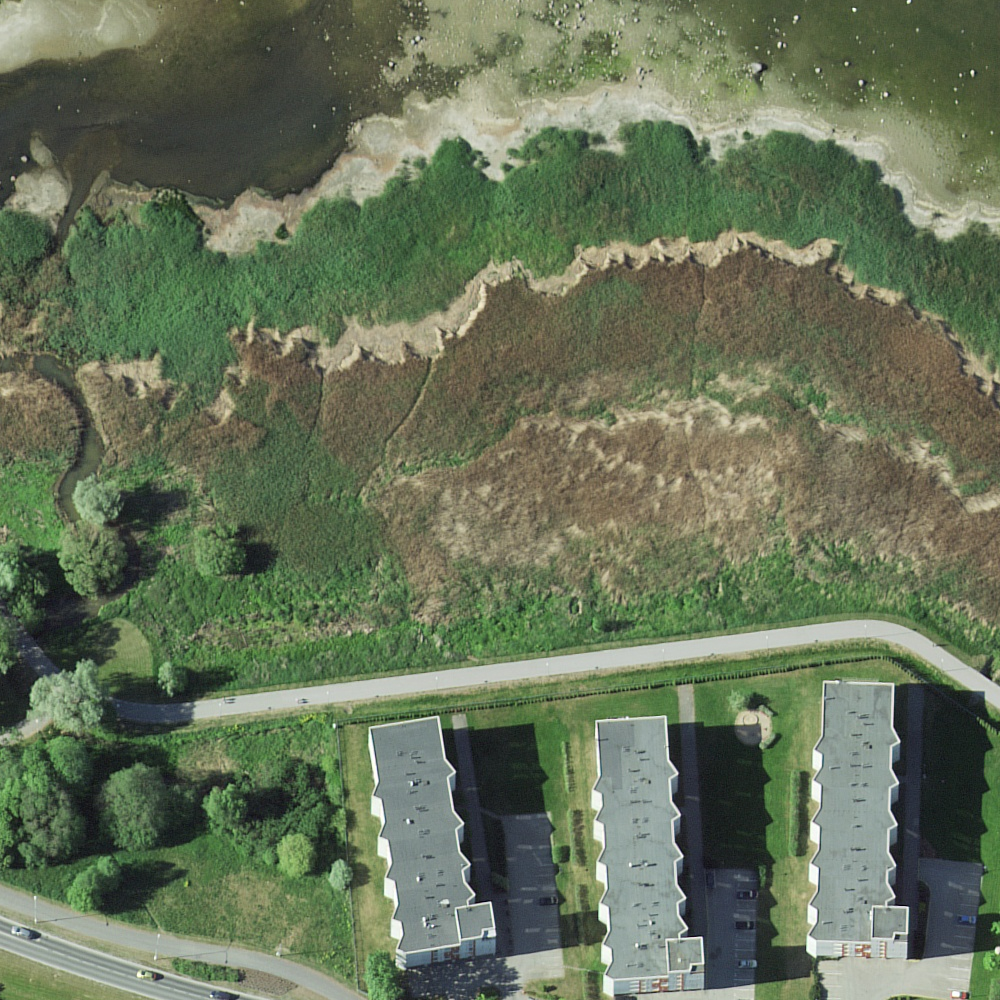building: (369, 714, 496, 956), (592, 715, 705, 981), (807, 680, 909, 944)
